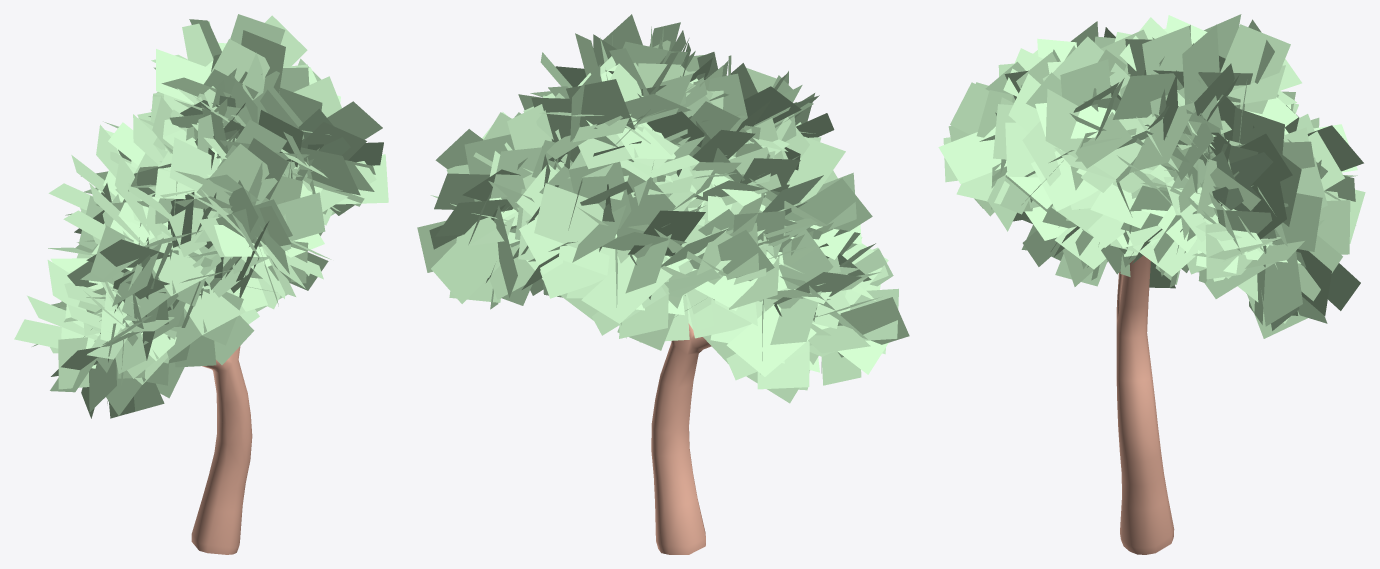
The model's file is tree_11.fbx.
3 views of the same model, side by side, from view 1: azimuth 30°, elevation 25°; view 2: azimuth 150°, elevation 25°; view 3: azimuth 270°, elevation 25° (orthographic). The views are drawn at different scales.
Visible parts, largest first — view 1: Tree_11; view 2: Tree_11; view 3: Tree_11.
Boxes of the visible parts, x1,y1,x2,y2 form: Tree_11: (14, 14, 388, 554); Tree_11: (417, 14, 909, 554); Tree_11: (938, 14, 1365, 554).
Bounding box in the file's own units: 662 × 853 × 600.
